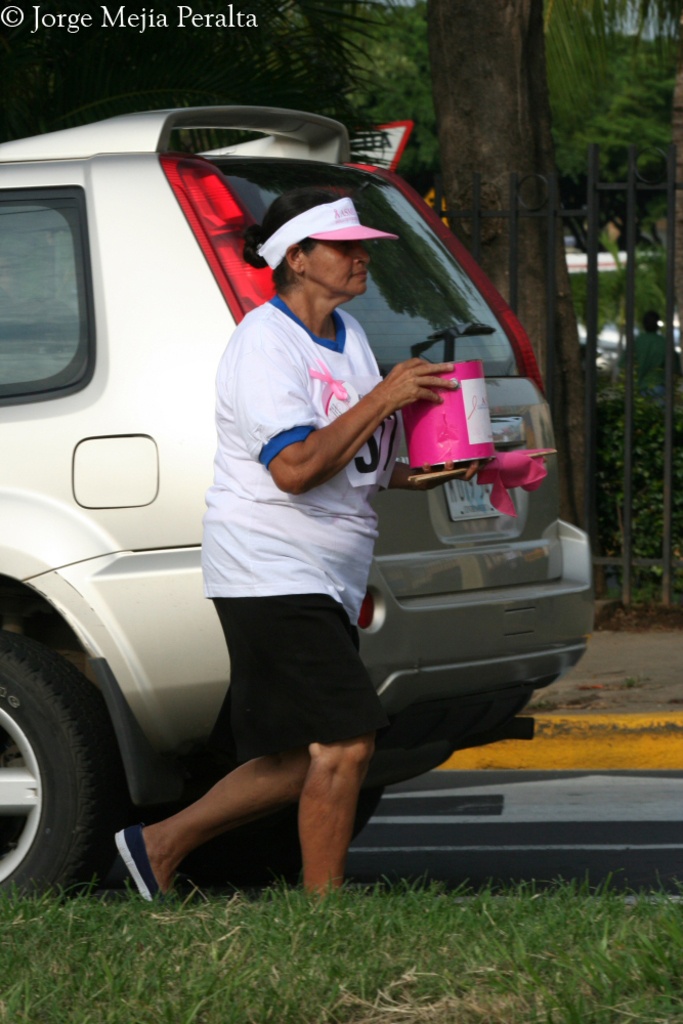cars: (0, 96, 595, 894)
